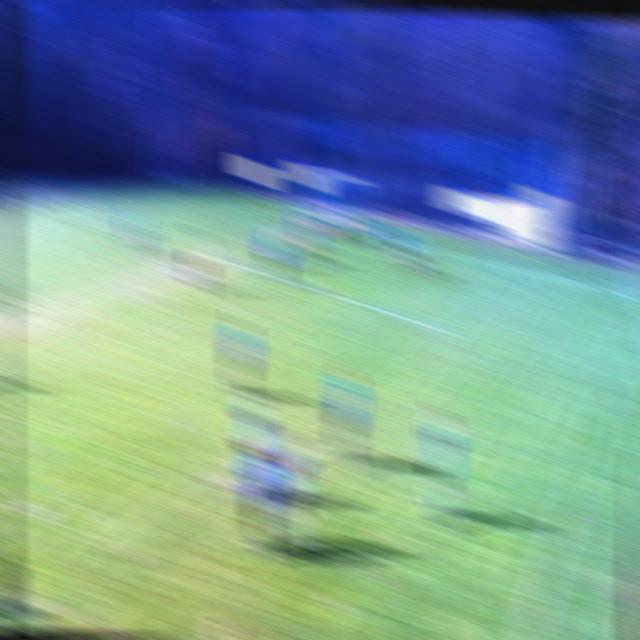bigarea_bottom_inner: (435, 315, 463, 348)
bigarea_bottom_outter: (508, 258, 530, 282)
bigarea_top_inner: (66, 208, 89, 235)
bigarea_top_outter: (182, 190, 206, 208)
corner: (622, 287, 640, 308)
smallarea_bottom_inner: (362, 242, 385, 267)
smallarea_top_inner: (218, 208, 241, 230)
smallarea_top_outter: (251, 202, 273, 221)
top_arc_area_intersection: (136, 229, 161, 251)
